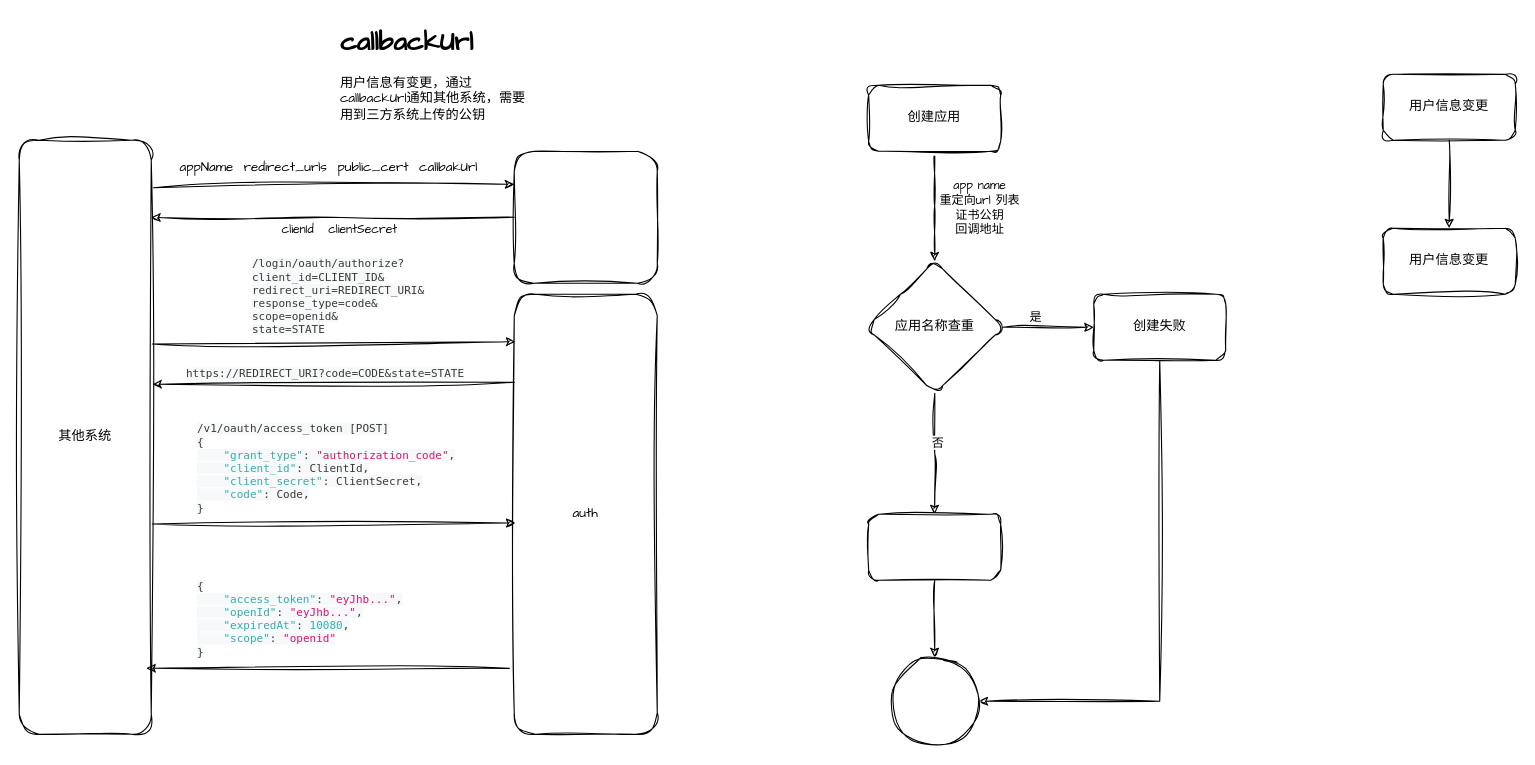
This 1535x765 diagram has some shape labels left out. Each missing label, with the box of its shape:
upms: (513, 150, 657, 283)
创建clientId、clientSecret: (868, 513, 1001, 580)
结束: (890, 656, 979, 745)
